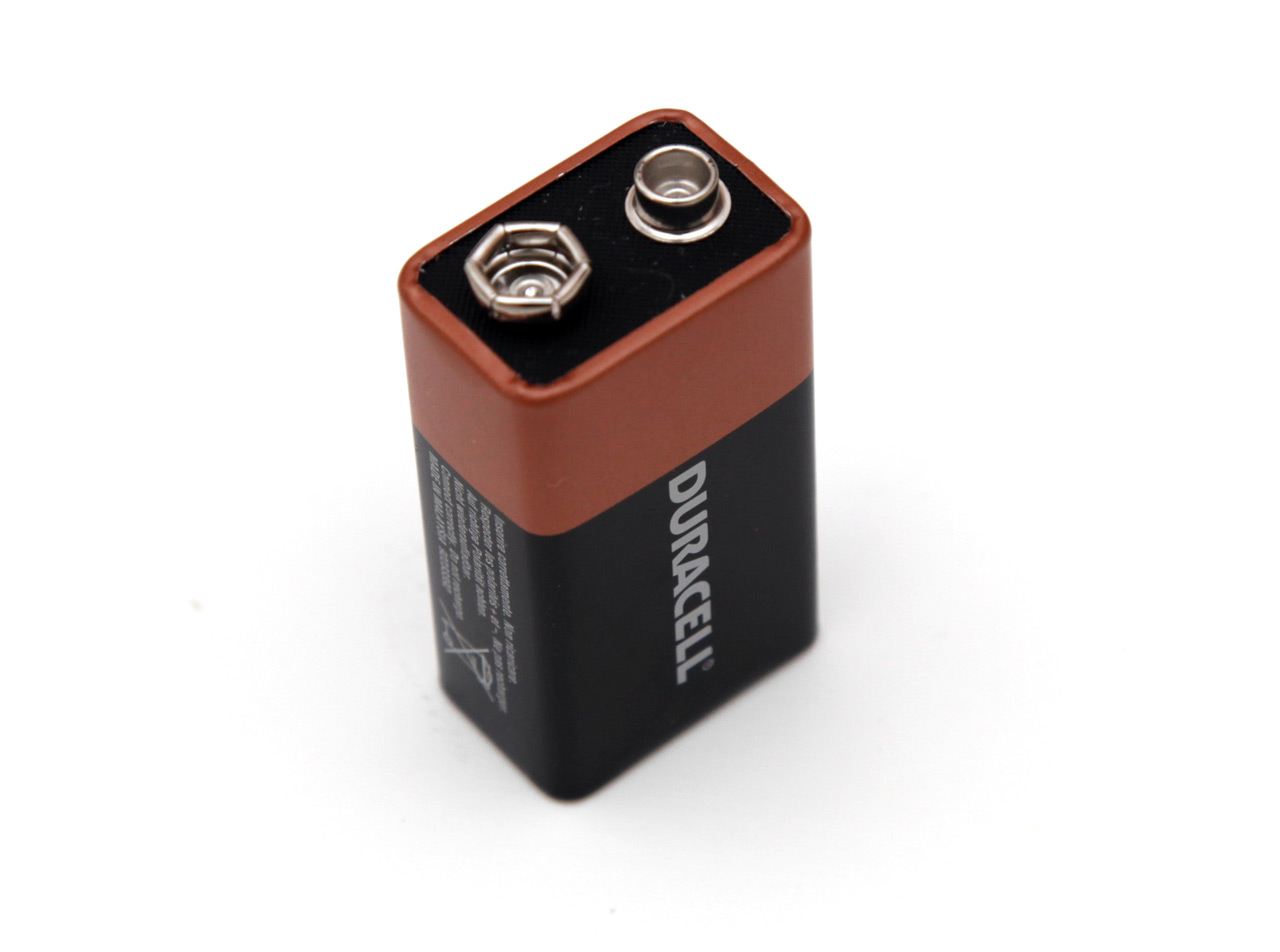9V: (366, 95, 842, 810)
